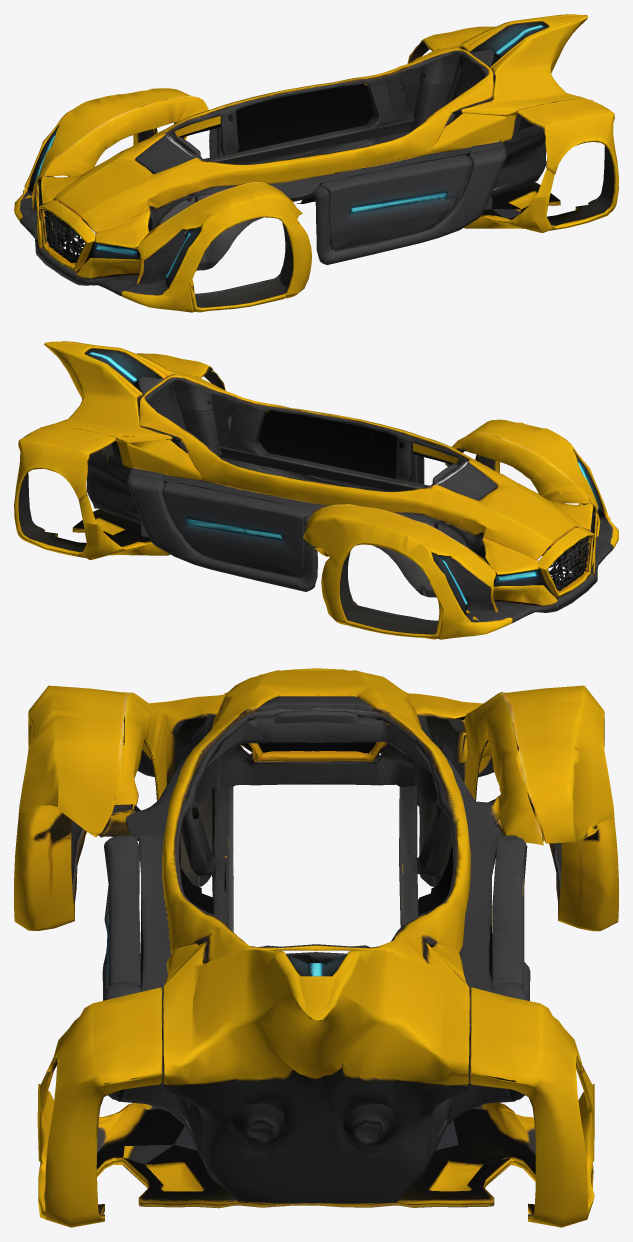
File: zuri_volt.glb
3 views of the same model, one above another, from view 1: azimuth 30°, elevation 25°; view 2: azimuth 150°, elevation 25°; view 3: azimuth 270°, elevation 25° (orthographic). The views are drawn at different scales.
Parts seen in each view (by area): view 1: geometry_0; view 2: geometry_0; view 3: geometry_0.
Boxes of the visible parts, x1,y1,x2,y2 form: geometry_0: (14,14,618,312); geometry_0: (14,341,618,639); geometry_0: (14,668,618,1227).
Size of the model in its own units: 0.9507 by 0.2383 by 0.4995.
1 material, 1 textured.
